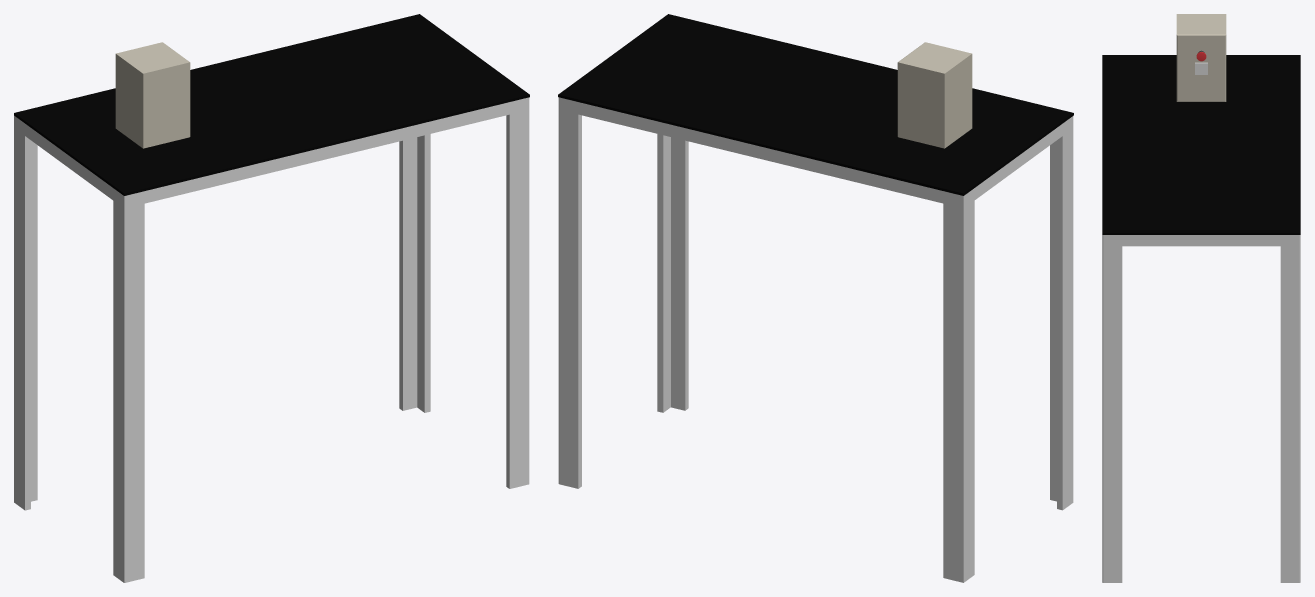
Rendered from table.dae.
3 renders of one model, left to right at view 1: azimuth 30°, elevation 25°; view 2: azimuth 150°, elevation 25°; view 3: azimuth 270°, elevation 25°, orthographic. The views are drawn at different scales.
Visible parts, largest first — view 1: Part 1 (×3); view 2: Part 1 (×3); view 3: Part 1 (×3).
Boxes of the visible parts, <box> form: Part 1 (×3): <box>14,14,529,582</box>; Part 1 (×3): <box>558,14,1073,582</box>; Part 1 (×3): <box>1102,14,1300,582</box>.
Bounding box in the file's own units: 1.7 × 0.8 × 1.86.
